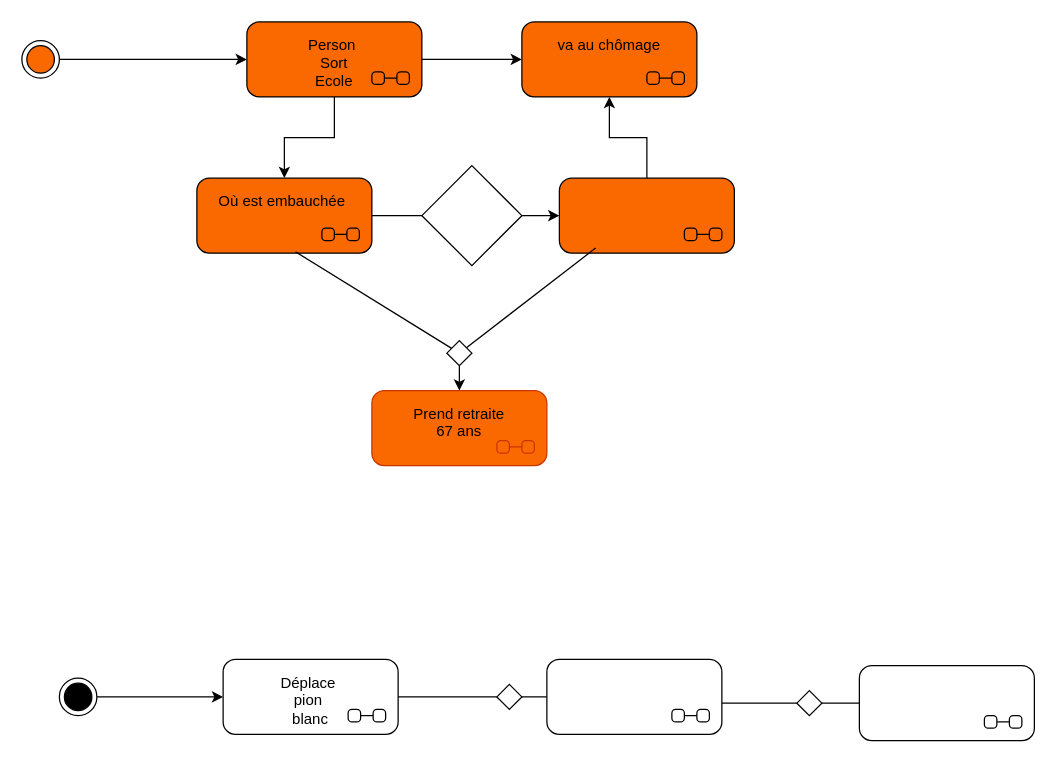
Image size: 1056x763. Some labels were removed from this diagram. Each missing label, with the centre of its shape:
"Déplace pion noir" goes at [634,696].
"Echec et mat" goes at [946,702].
"Est licencié" goes at [646,215].
